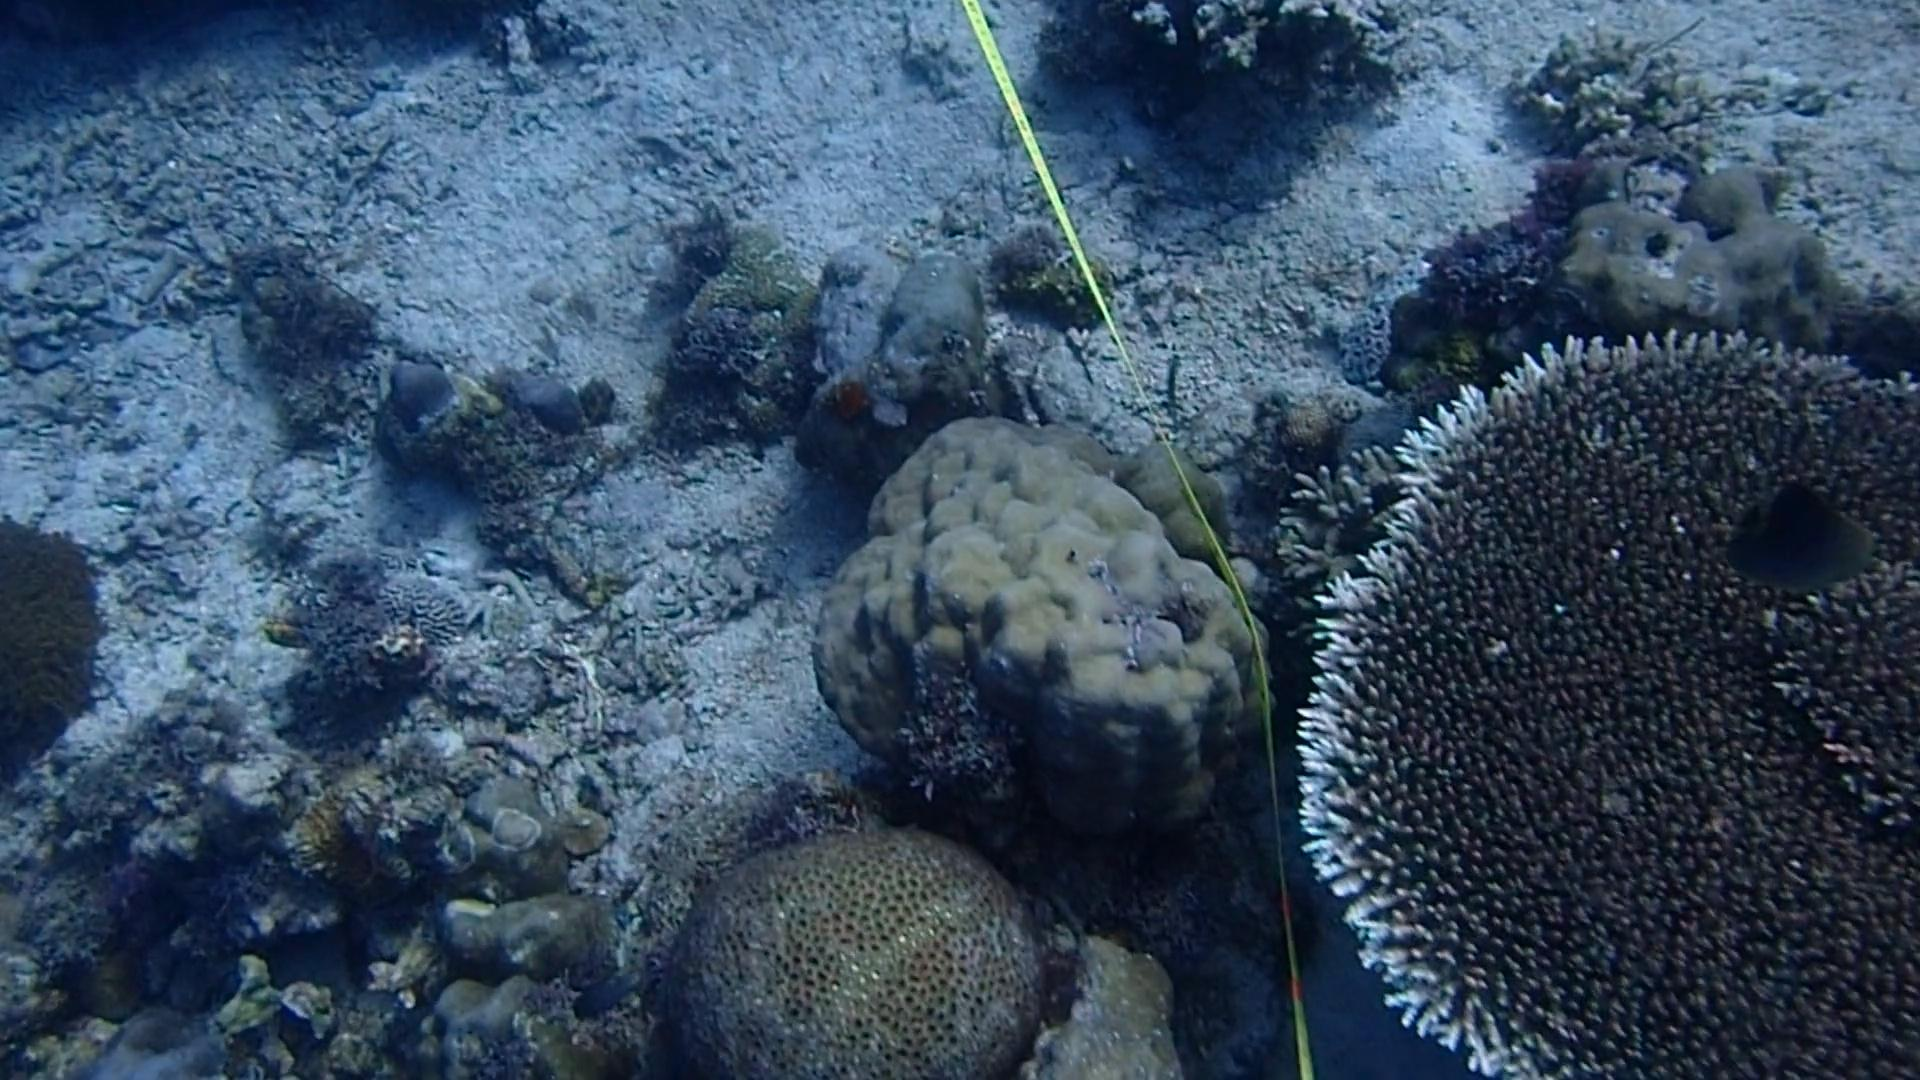Dark Blue Dory: (1724, 475, 1882, 597)
Light Fish: (564, 967, 637, 1029)
